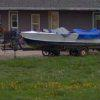Boat: (21, 23, 96, 60)
